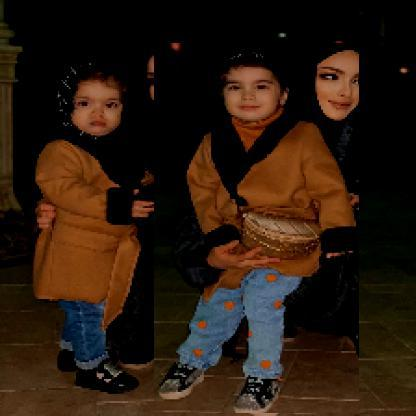child: (155, 44, 361, 415), (33, 63, 159, 392)
